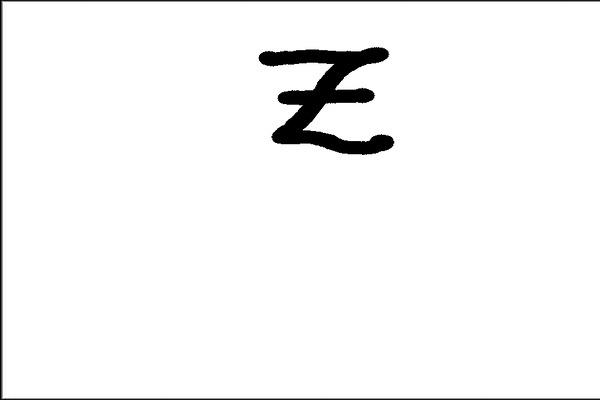Z: (249, 38, 401, 158)
